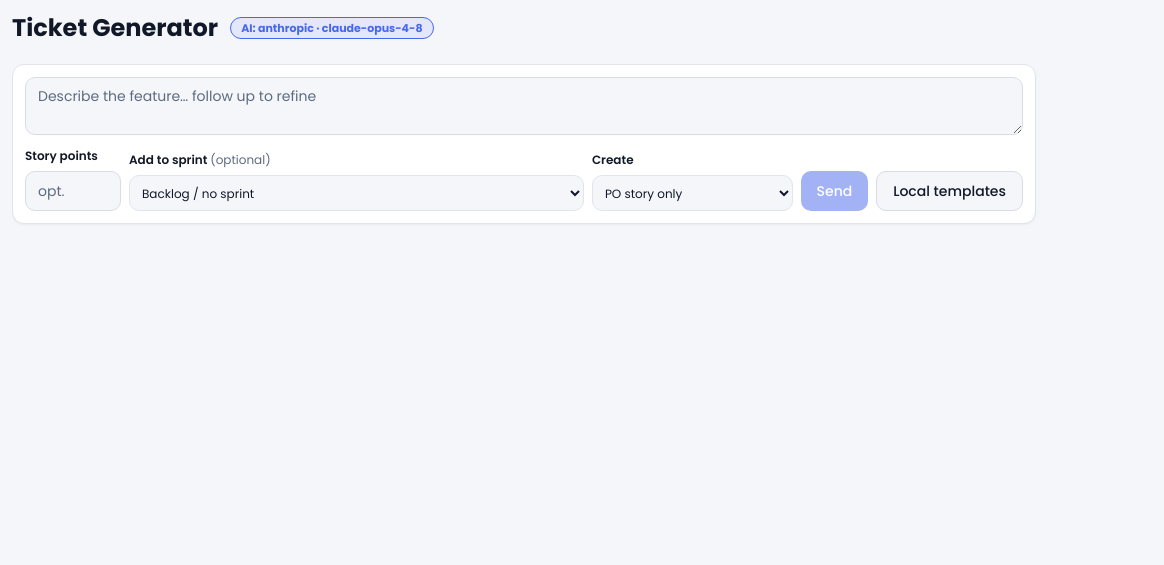
Test: TicketGen › shows AI chat layout when getAiStatus returns enabled
expect the text "AI: anthropic · claude-opus-4-8" is shown: met, box x1=230 y1=17 x2=434 y2=39
Type "Add dark mode" into the text box labelled "Describe the feature… follow up to refine".
click(524, 106); type("Add dark mode")  # box x1=25 y1=77 x2=1023 y2=135
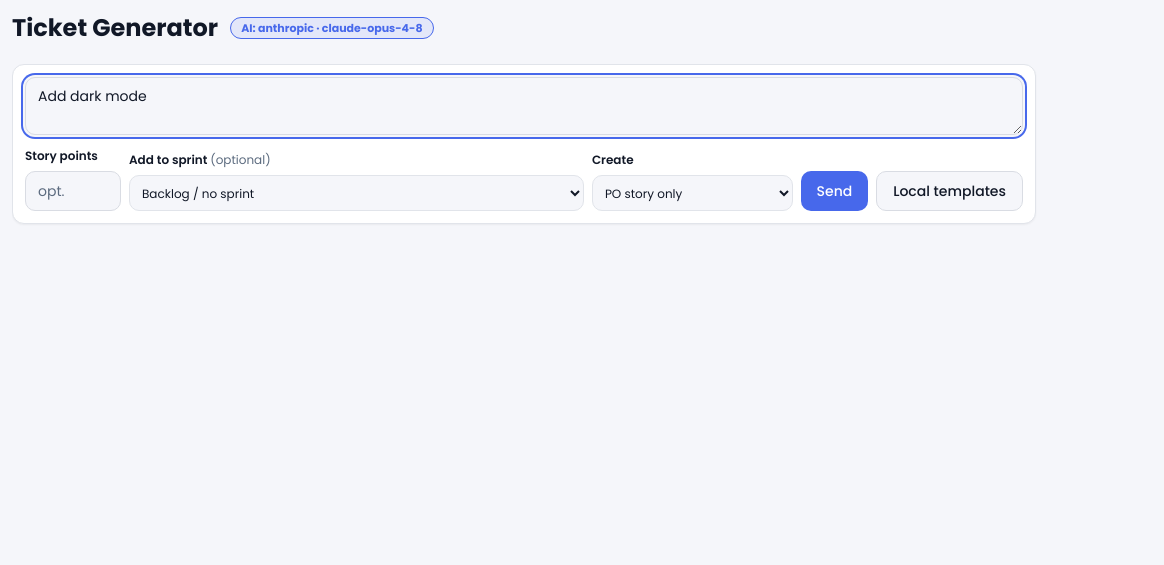
Select "PO + linked Dev task" in the dropdown named "what to create" at (692, 193), box x1=592 y1=175 x2=793 y2=211
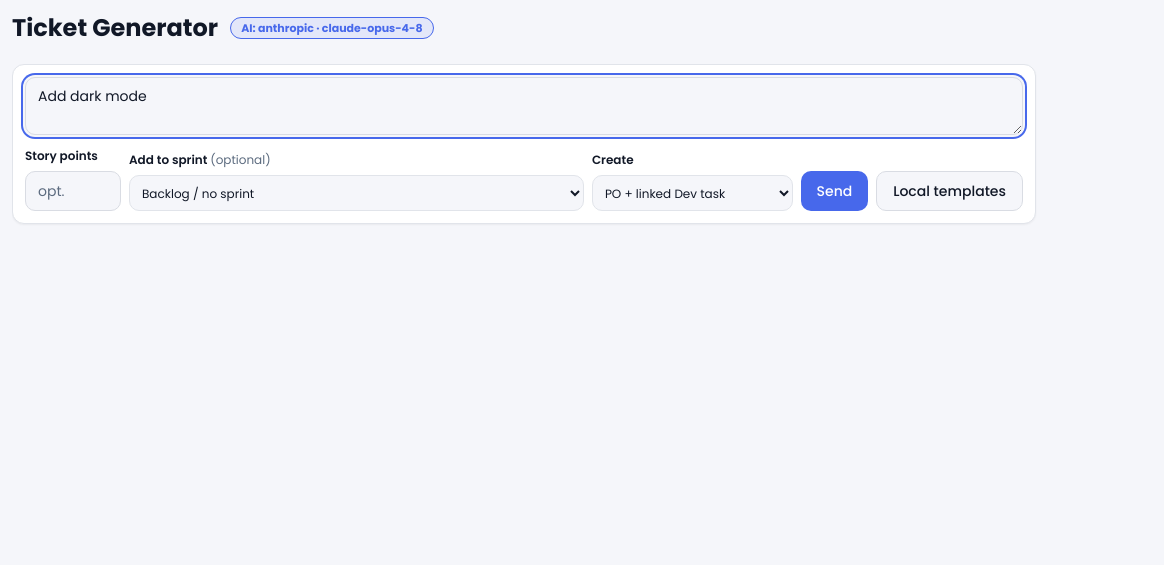
Click the button "Send".
click(834, 191)  # box x1=800 y1=171 x2=868 y2=211
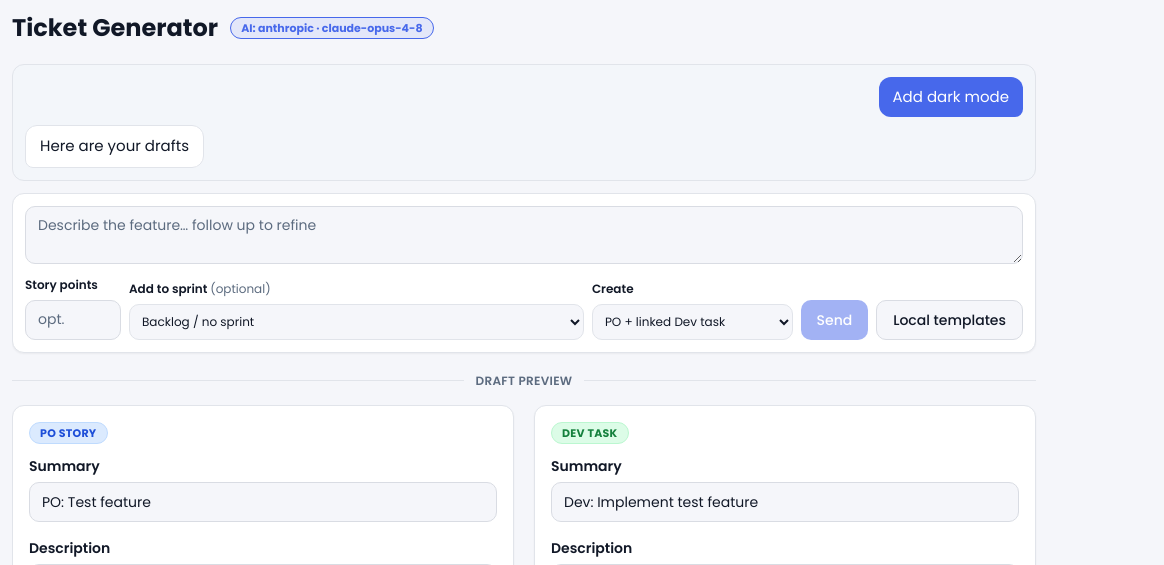
expect the text "Here are your drafts" is shown: met, box x1=25 y1=125 x2=204 y2=168
expect the text "PO Story" is shown: met, box x1=29 y1=422 x2=108 y2=444
expect the text "Dev Task" is shown: met, box x1=551 y1=422 x2=629 y2=444
